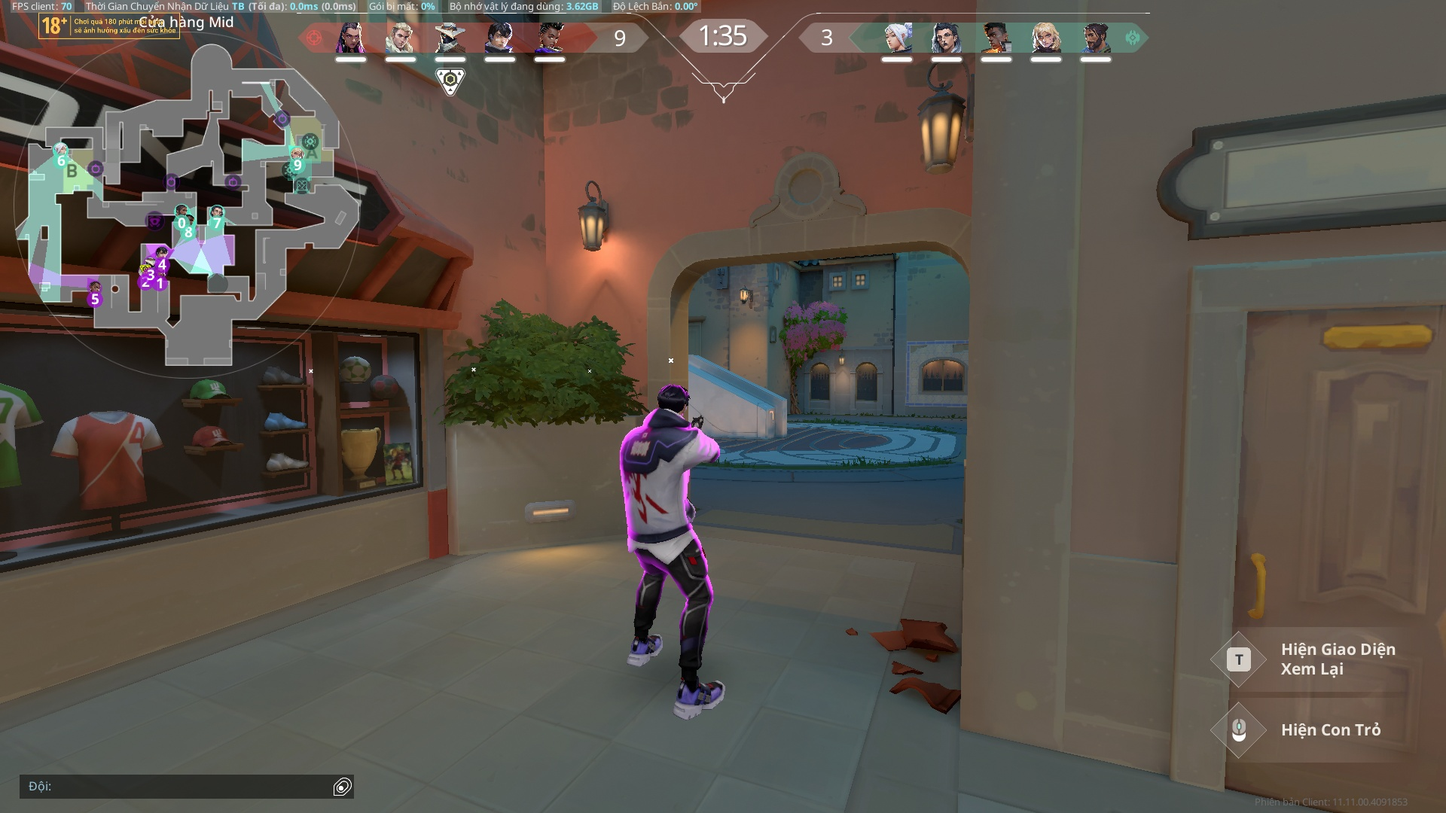body: (618, 416, 715, 531)
head: (652, 382, 695, 425)
